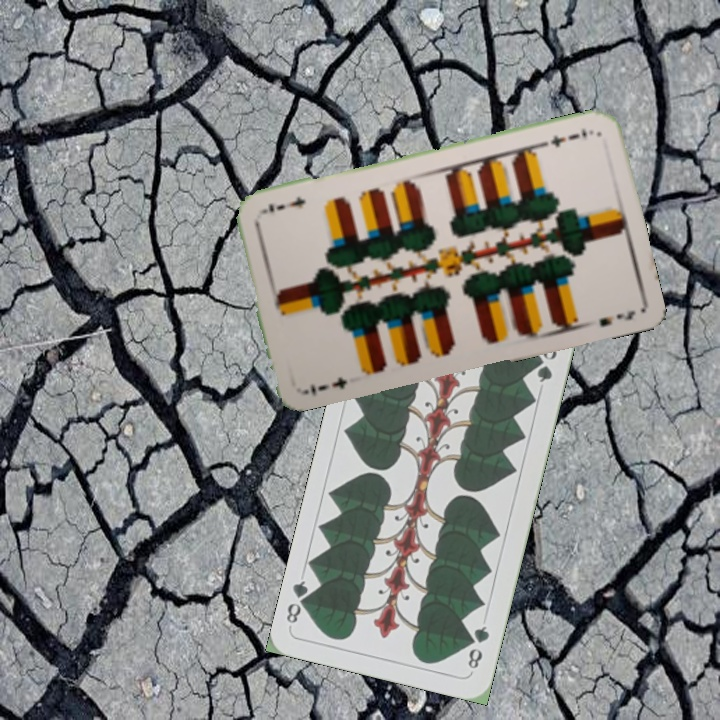E7: (539, 123, 597, 149), (306, 373, 350, 399)
G8: (463, 622, 492, 674)
